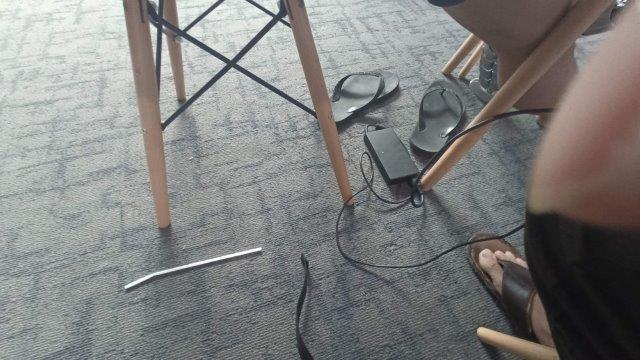sedotan: (125, 248, 261, 290)
